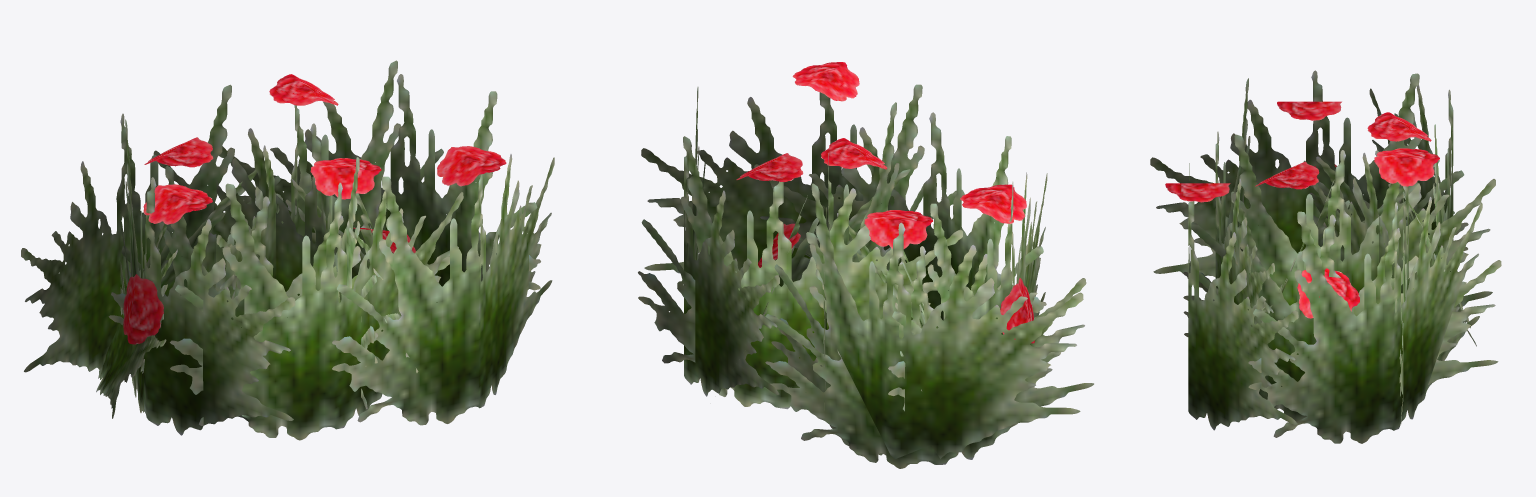
Rendered from Rose.fbx.
3 views of the same model, side by side, from view 1: azimuth 30°, elevation 25°; view 2: azimuth 150°, elevation 25°; view 3: azimuth 270°, elevation 25° (orthographic). The views are drawn at different scales.
Parts seen in each view (by area): view 1: Rose; view 2: Rose; view 3: Rose.
Part boxes in pixels (x1,y1,x2,y2): Rose: [21, 60, 554, 440]; Rose: [638, 62, 1093, 468]; Rose: [1150, 70, 1501, 443].
Size of the model in its own units: 0.5933 by 0.346 by 0.4188.
Materials: 1 (1 with a texture image).
